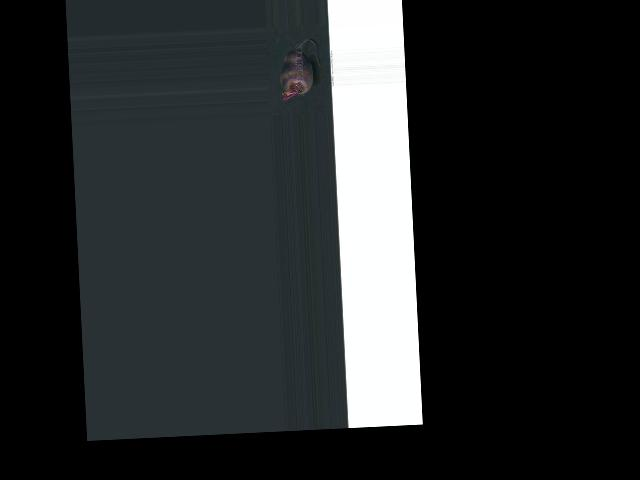beet: (278, 39, 321, 102)
